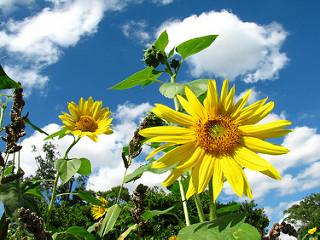sunflower: (140, 83, 287, 196), (58, 98, 113, 140)
